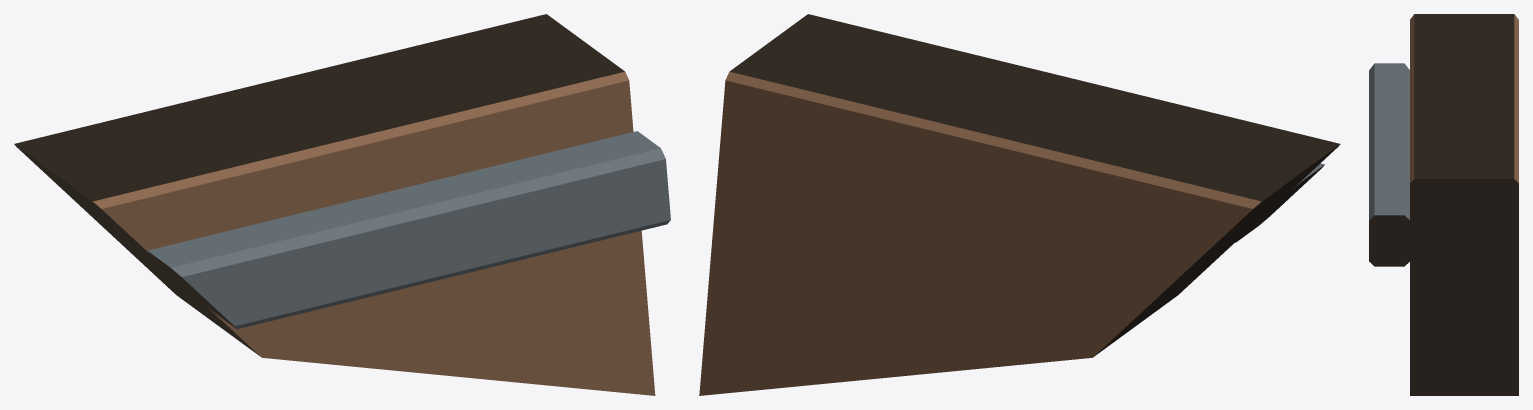
Rendered from SM_DoorShard_03_24.fbx.
3 views of the same model, side by side, from view 1: azimuth 30°, elevation 25°; view 2: azimuth 150°, elevation 25°; view 3: azimuth 270°, elevation 25° (orthographic). The views are drawn at different scales.
Parts seen in each view (by area): view 1: SM_DoorShard_03_24; view 2: SM_DoorShard_03_24; view 3: SM_DoorShard_03_24.
Part boxes in pixels (x1=…): SM_DoorShard_03_24: x1=14, y1=14, x2=670, y2=395; SM_DoorShard_03_24: x1=699, y1=14, x2=1340, y2=395; SM_DoorShard_03_24: x1=1369, y1=14, x2=1518, y2=395.
Size of the model in its own units: 60.3 by 22 by 33.83.
